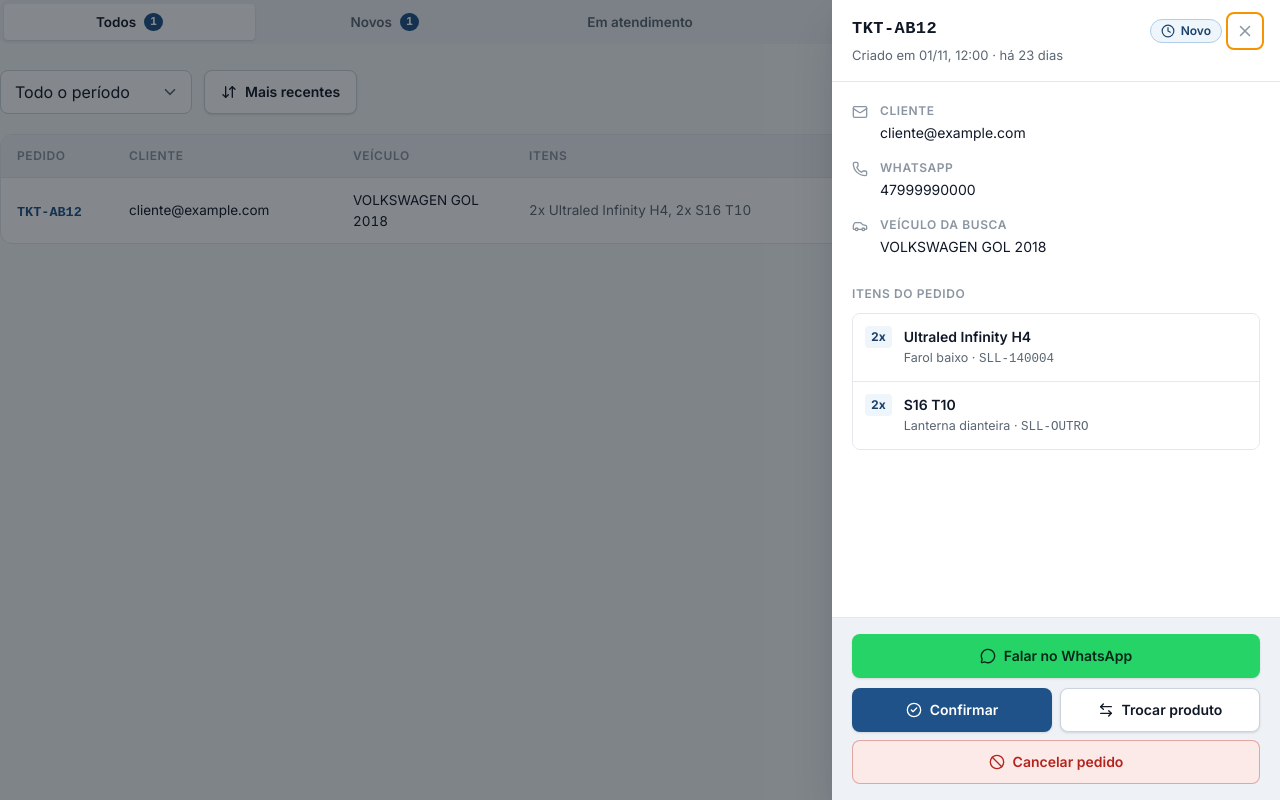
Test case: ModalTrocaProduto › pede para escolher o item quando o pedido tem mais de um
Expected: the dialog is shown, [832, 0, 1279, 799]
Click the button "Trocar produto". click: (1160, 710)
box: [1060, 688, 1260, 732]
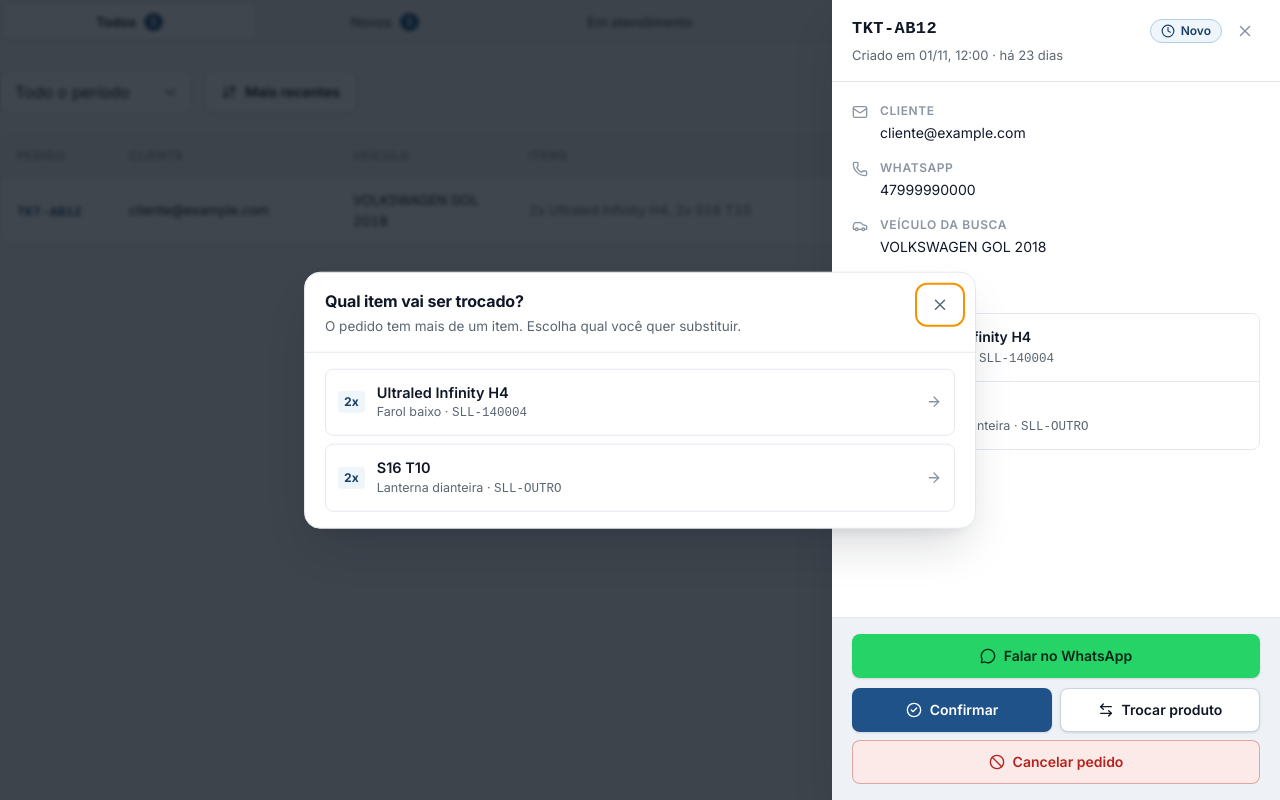
Expected: the text "S16 T10" is shown, [377, 459, 430, 476]
Expected: the text "Ultraled Infinity H4" is shown, [377, 383, 509, 400]
